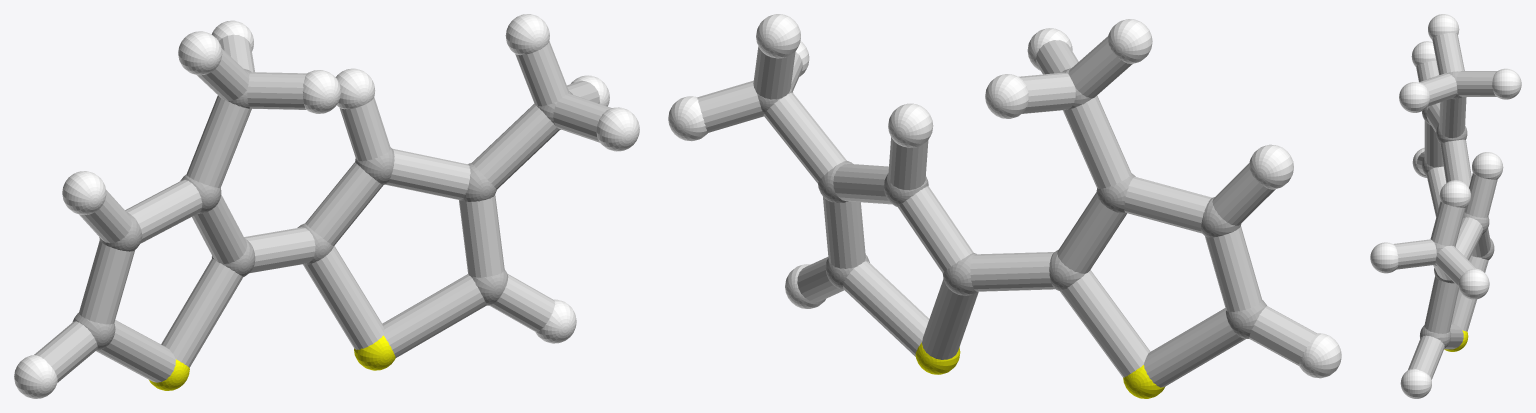
The model's file is Methylthiophene_Phi_30_Theta_170_Methylthiophene.glb.
3 renders of one model, left to right at view 1: azimuth 30°, elevation 25°; view 2: azimuth 150°, elevation 25°; view 3: azimuth 270°, elevation 25°, orthographic. The views are drawn at different scales.
Parts seen in each view (by area): view 1: grp7965, grp3621, grp1, grp7241; view 2: grp7965, grp3621, grp1, grp7241; view 3: grp7965, grp3621, grp1.
Part boxes in pixels (bbox=[...]): grp7965: bbox=[34, 34, 611, 382]; grp3621: bbox=[14, 14, 639, 398]; grp1: bbox=[72, 69, 572, 350]; grp7241: bbox=[149, 335, 395, 390]; grp7965: bbox=[697, 36, 1316, 387]; grp3621: bbox=[668, 14, 1341, 378]; grp1: bbox=[757, 68, 1266, 338]; grp7241: bbox=[915, 342, 1165, 398]; grp7965: bbox=[1393, 33, 1497, 379]; grp3621: bbox=[1370, 14, 1521, 398]; grp1: bbox=[1420, 71, 1494, 348].
Bounding box in the file's own units: 9.74 × 5.75 × 2.9.
